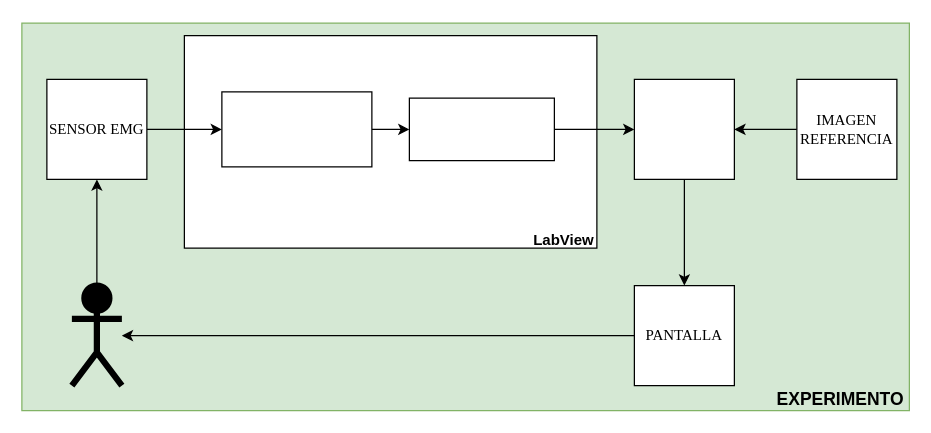
Image size: 931x433. Some labels were removed from this diagram. Here are the shapes that lost their labels. From the top down, the centre of each, then its label:
(x=296, y=129): PROCESAMIENTO SEÑALES EMG
(x=481, y=129): CONTROLADOR
(x=683, y=128): CAMARA
